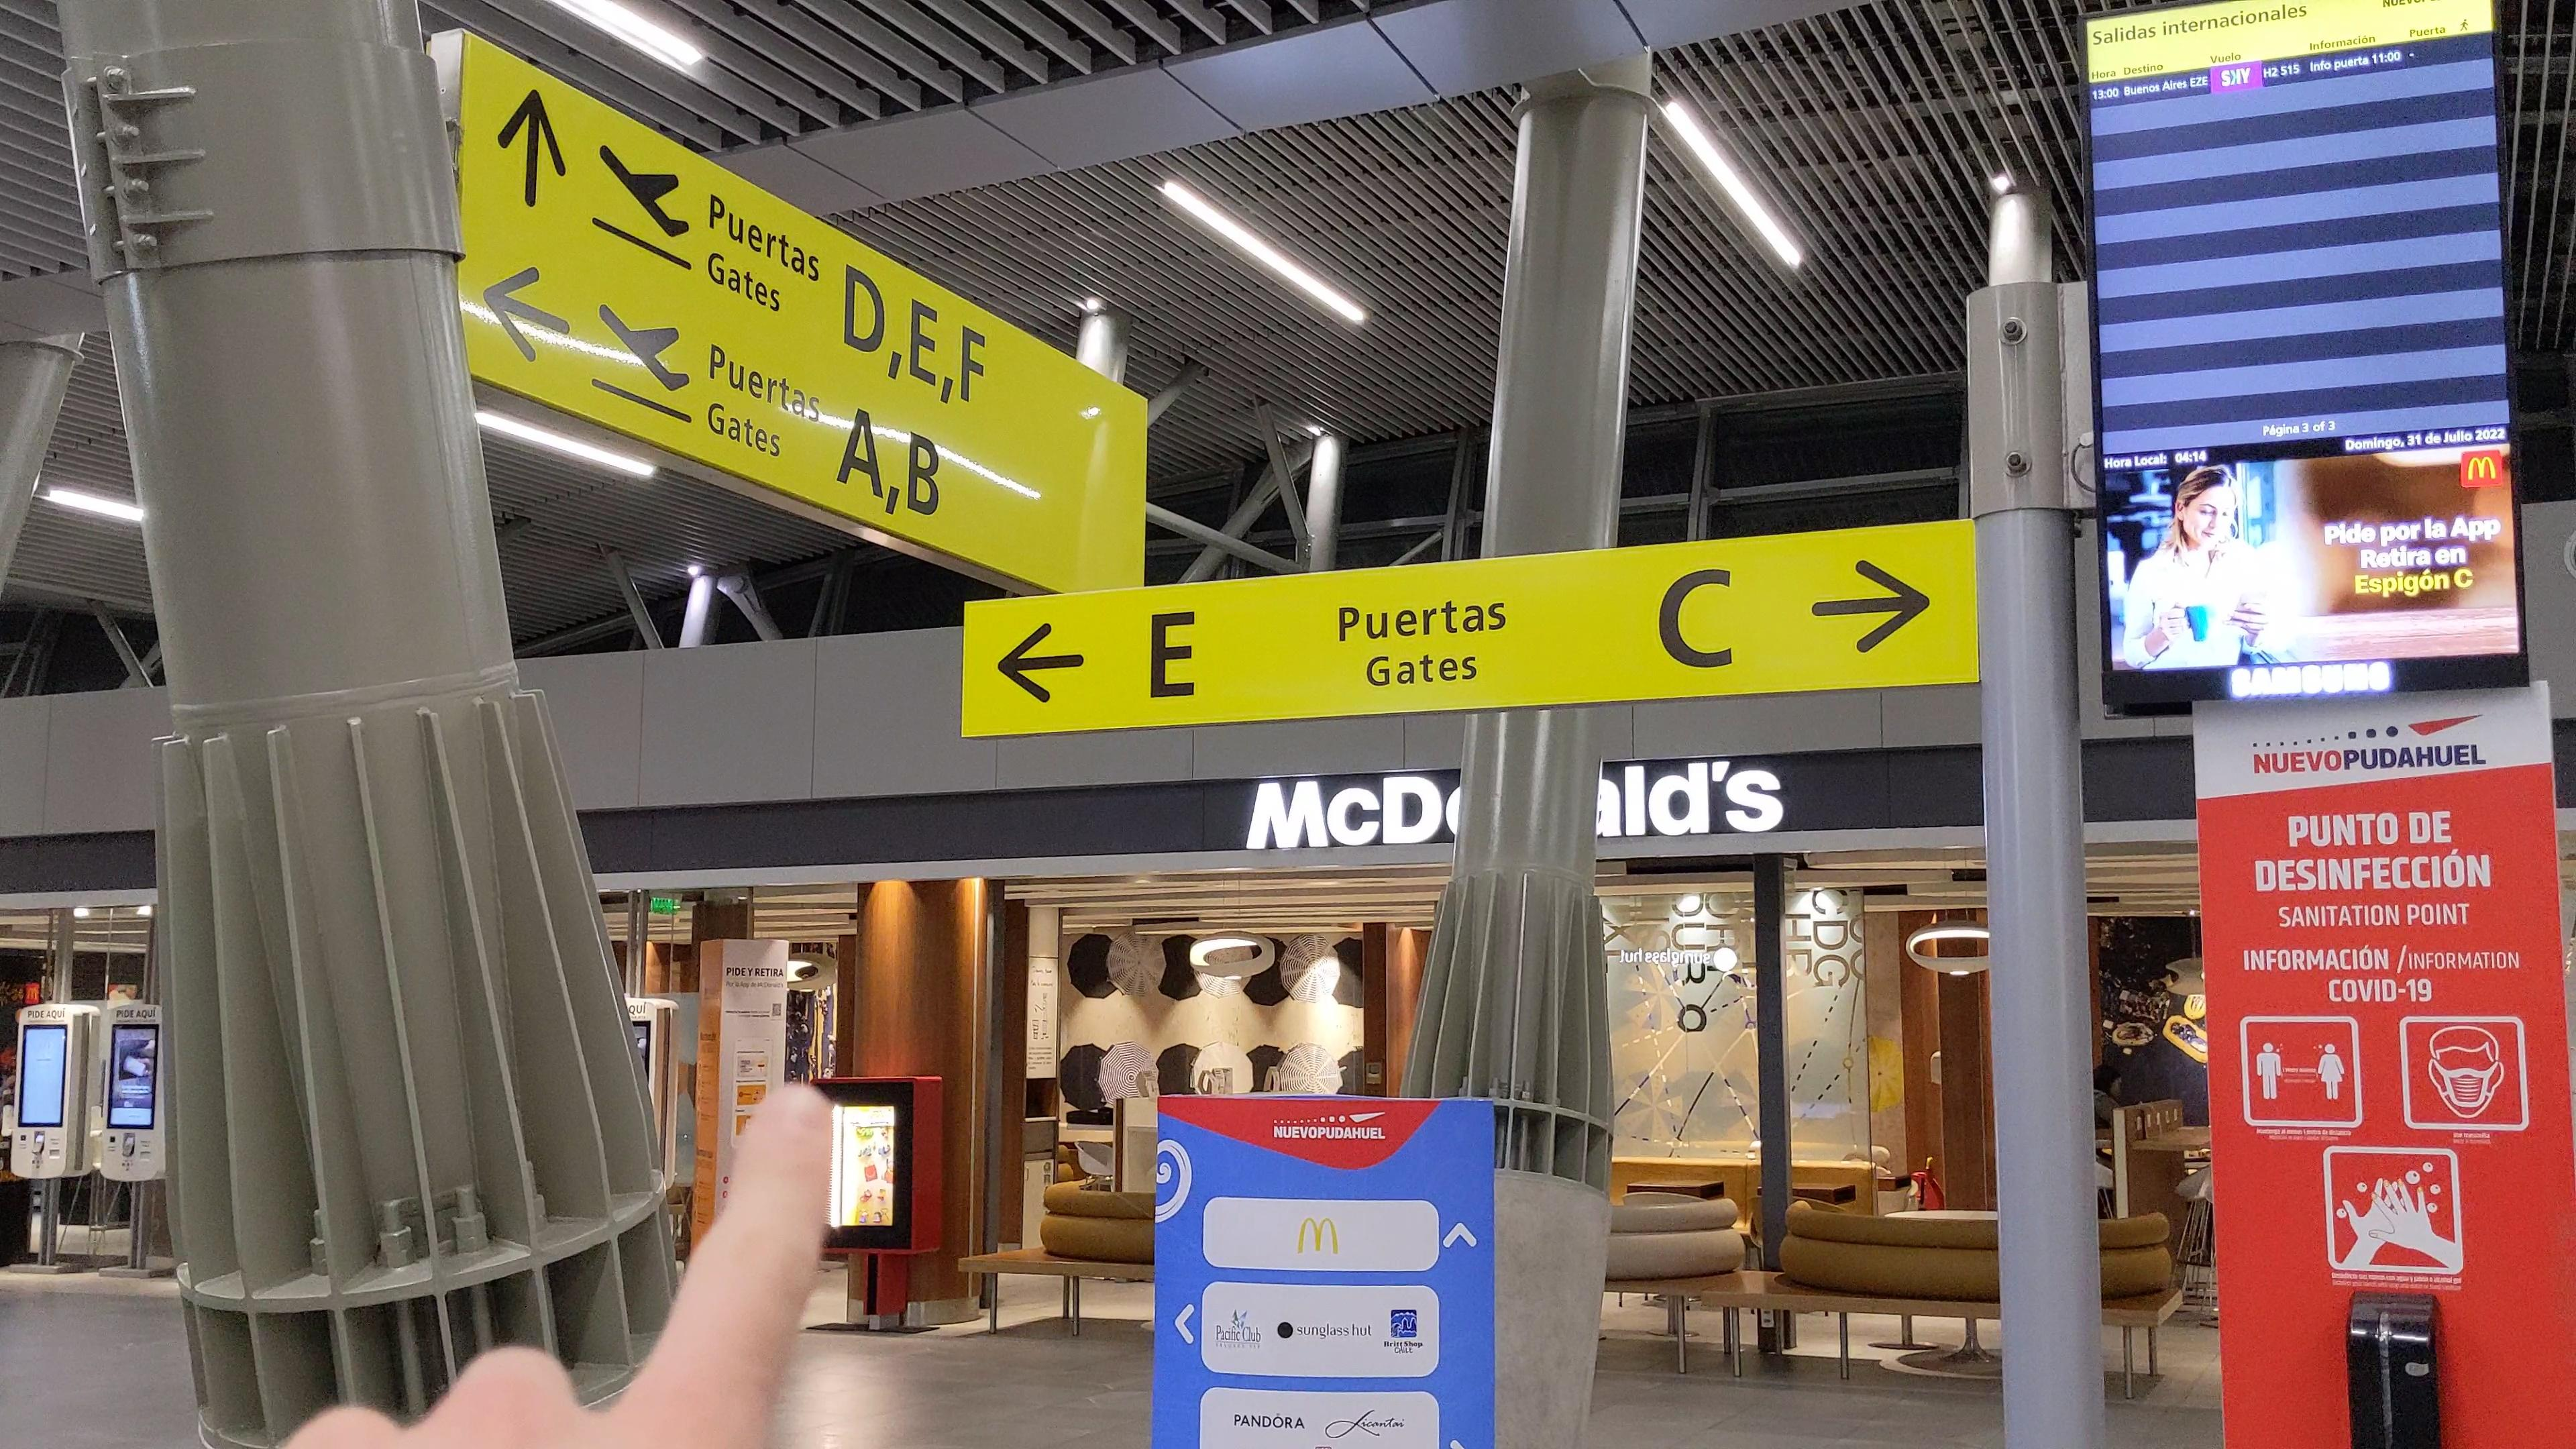airplane symbol: (593, 295, 699, 402), (594, 136, 695, 244)
thin left arrow: (478, 262, 584, 373), (993, 619, 1093, 713)
thin right arrow: (1805, 554, 1934, 660)
thin up arrow: (490, 74, 570, 214)
